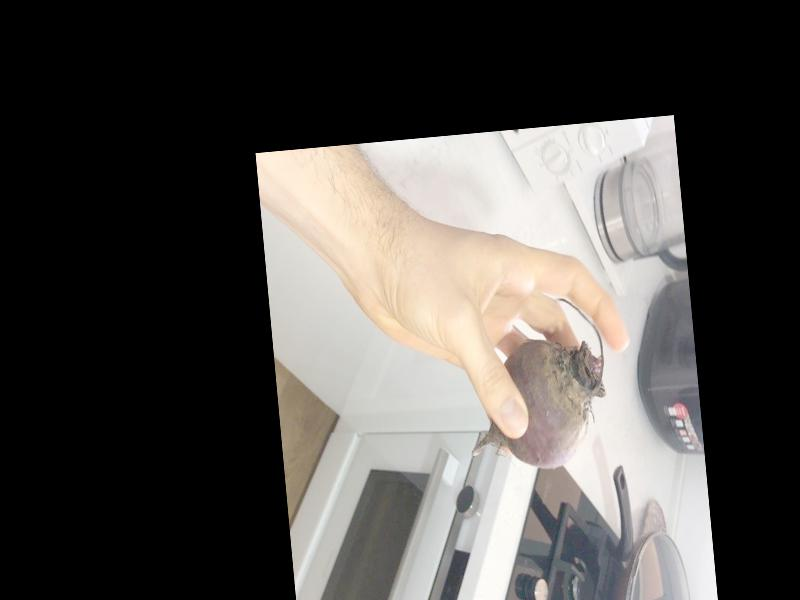Beet: (459, 297, 612, 474)
